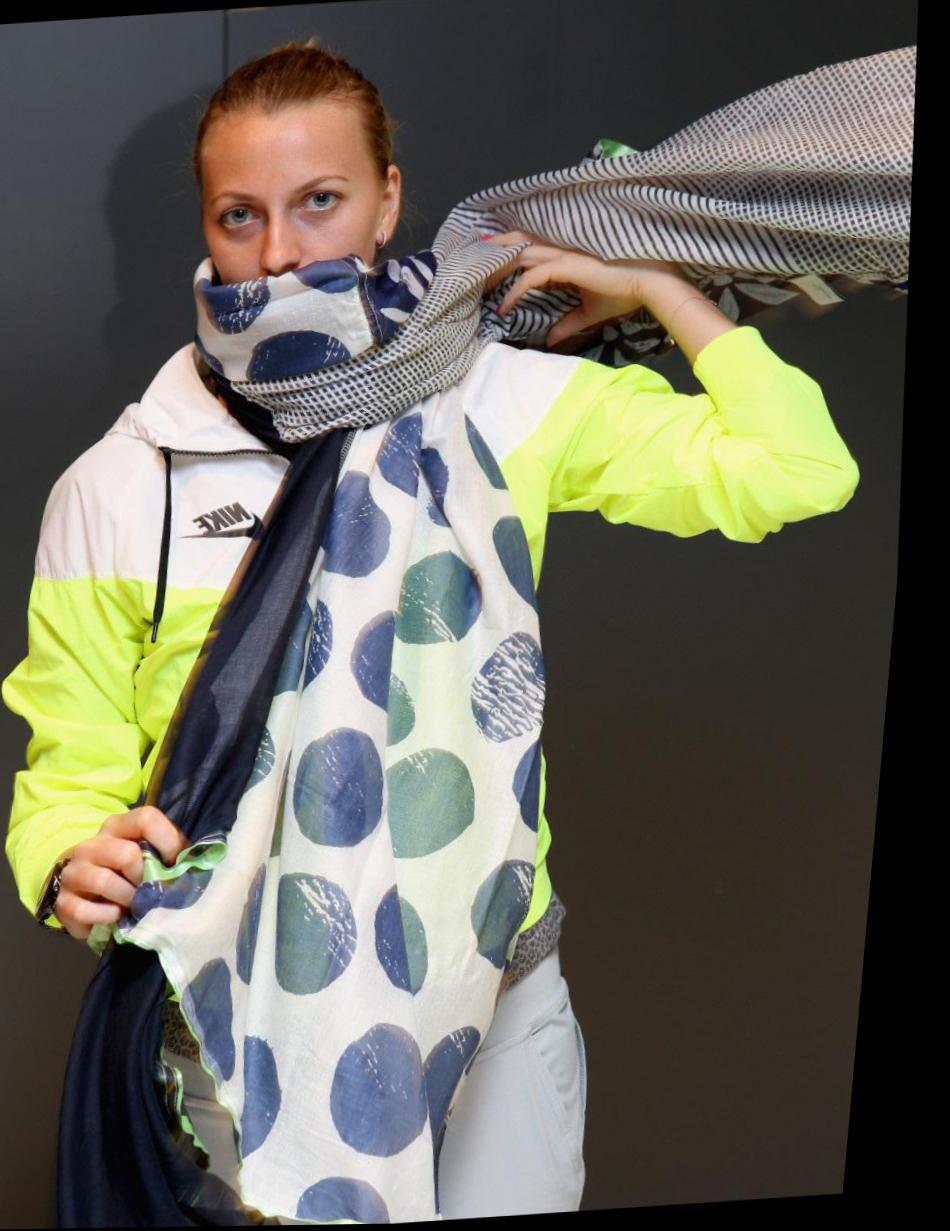WRONG: (197, 165, 397, 354)
